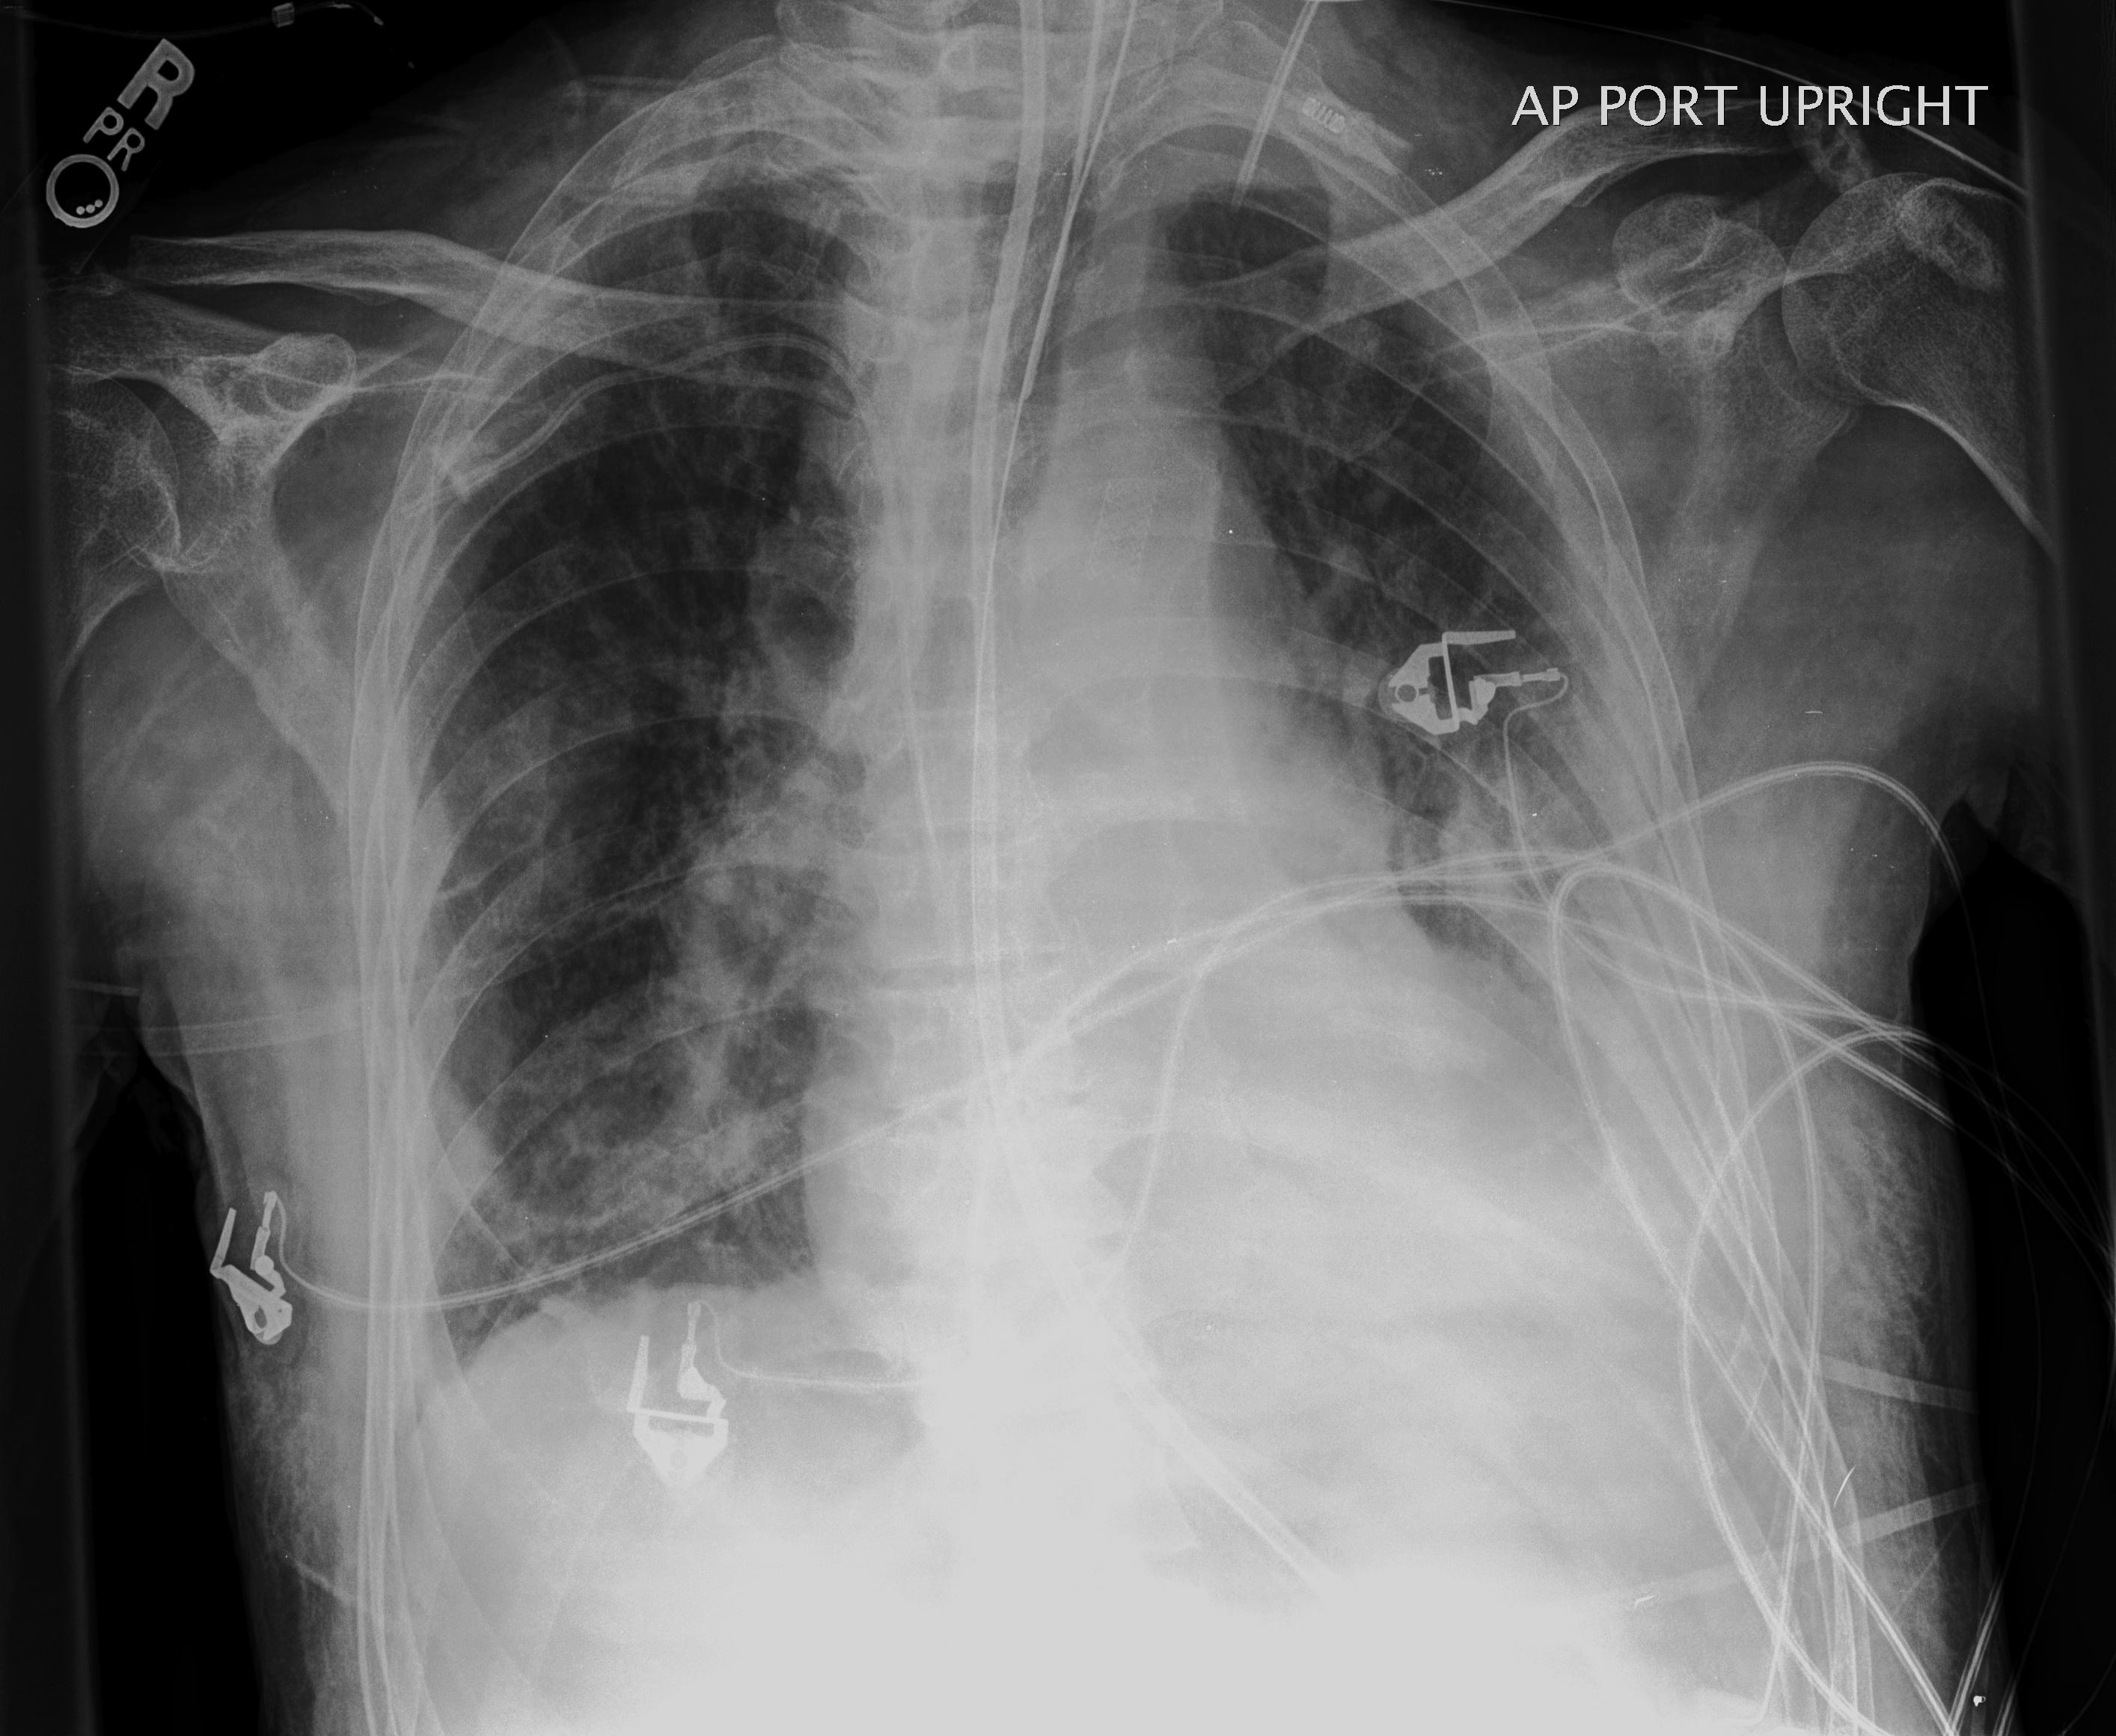Pleural Effusion: (1383, 873, 1793, 1418)
